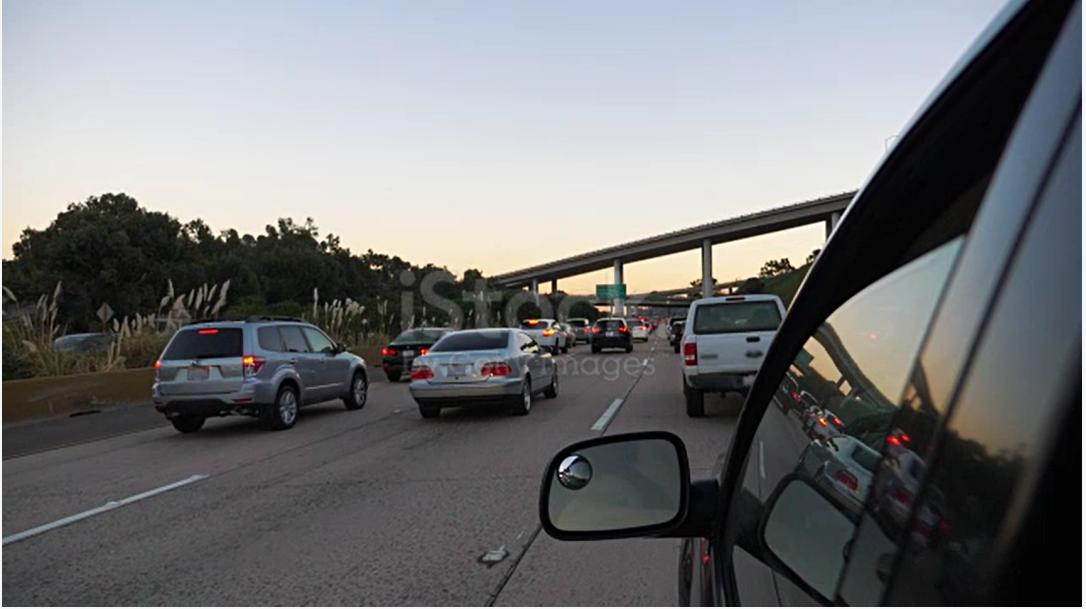car: (125, 295, 402, 452), (380, 312, 577, 439), (651, 289, 795, 418), (576, 309, 654, 376)
